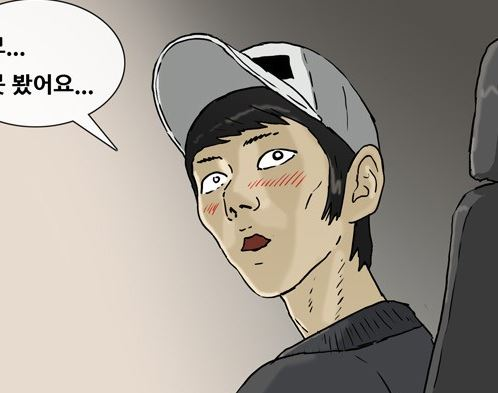hat: (146, 29, 383, 158)
